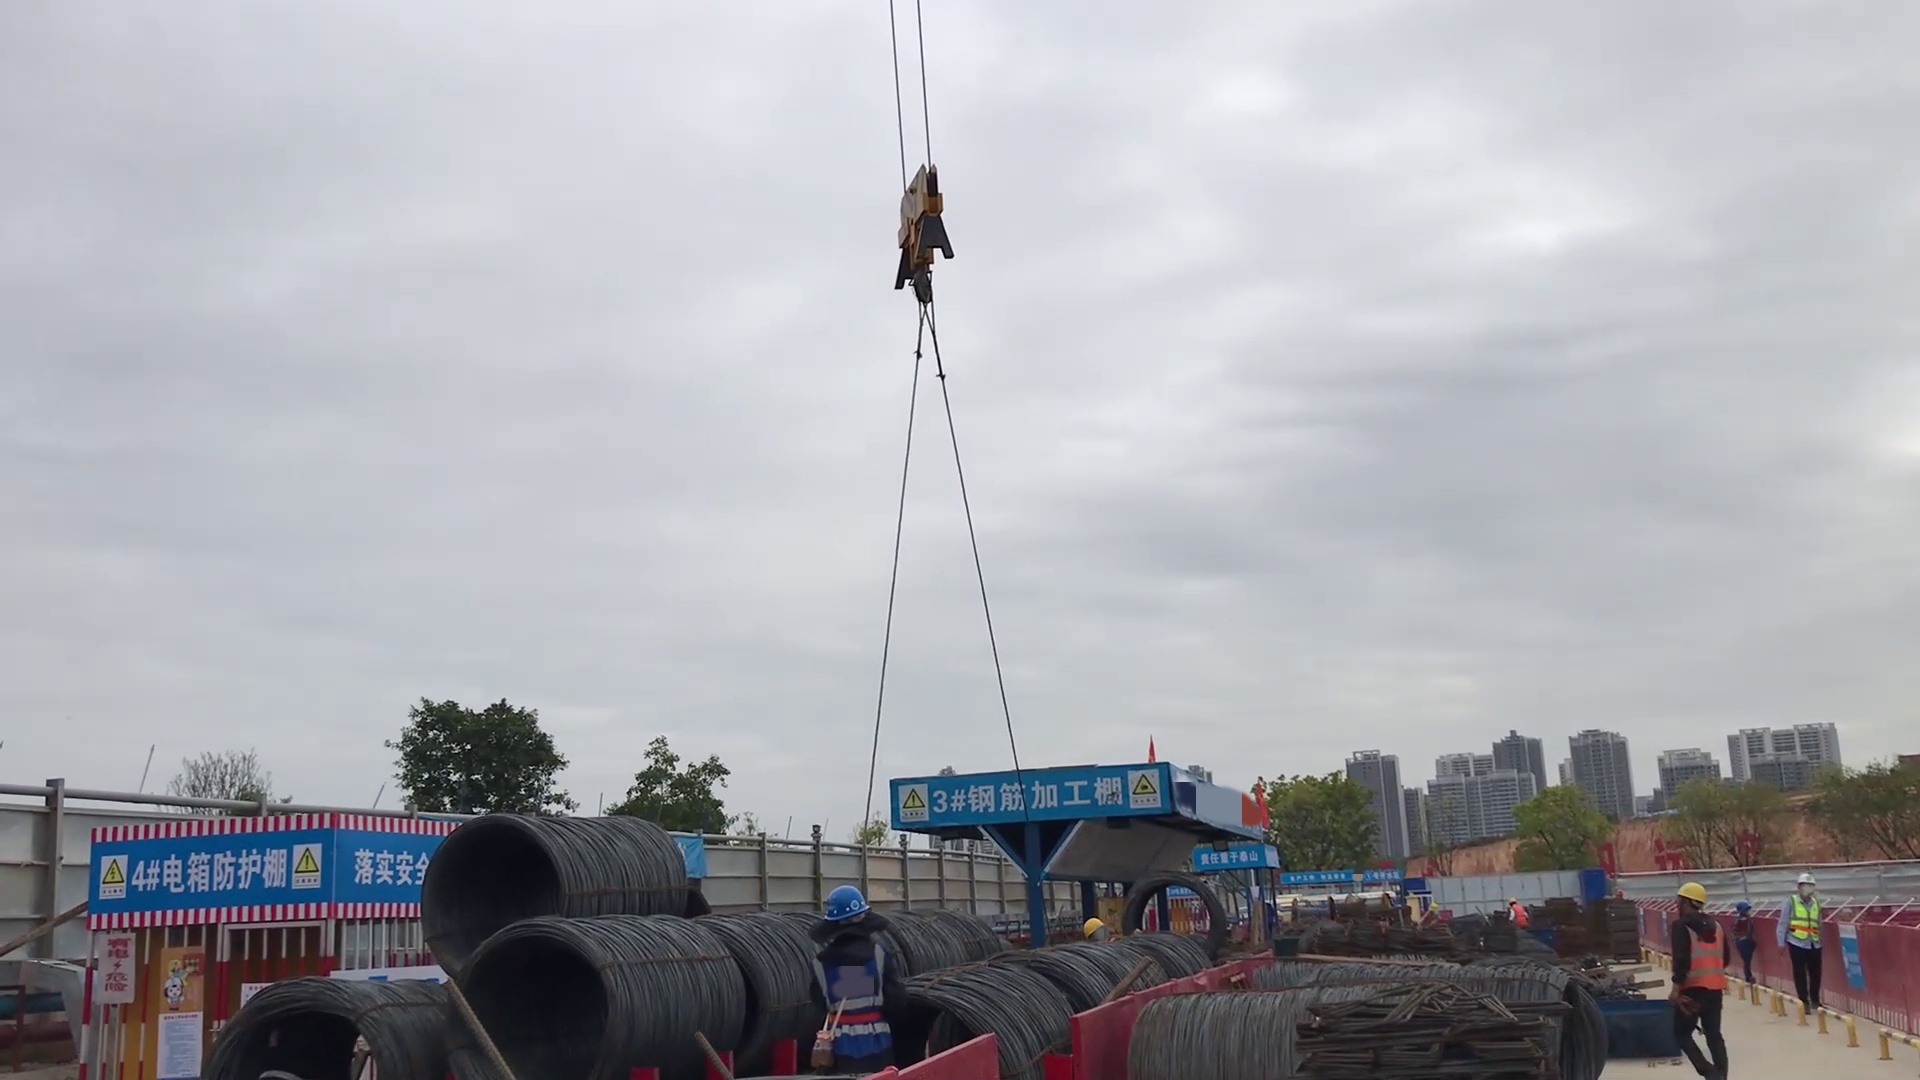fence: (1627, 885, 1830, 1026), (1832, 918, 1920, 1045)
helmet: (821, 888, 874, 922), (1679, 878, 1706, 903), (1081, 916, 1106, 940), (1797, 876, 1816, 890), (1505, 894, 1518, 902)
hook: (870, 164, 958, 374)
hopper: (1576, 979, 1683, 1060)
person: (814, 872, 908, 1078), (1653, 878, 1733, 1080), (1774, 875, 1833, 1012), (1729, 902, 1763, 994), (1507, 895, 1533, 937)
slogan: (355, 837, 431, 892), (1834, 921, 1866, 990), (1292, 869, 1401, 887), (1192, 849, 1258, 868)
vest: (821, 929, 889, 1061), (1674, 916, 1728, 994), (1785, 898, 1827, 950), (1510, 903, 1534, 929)
